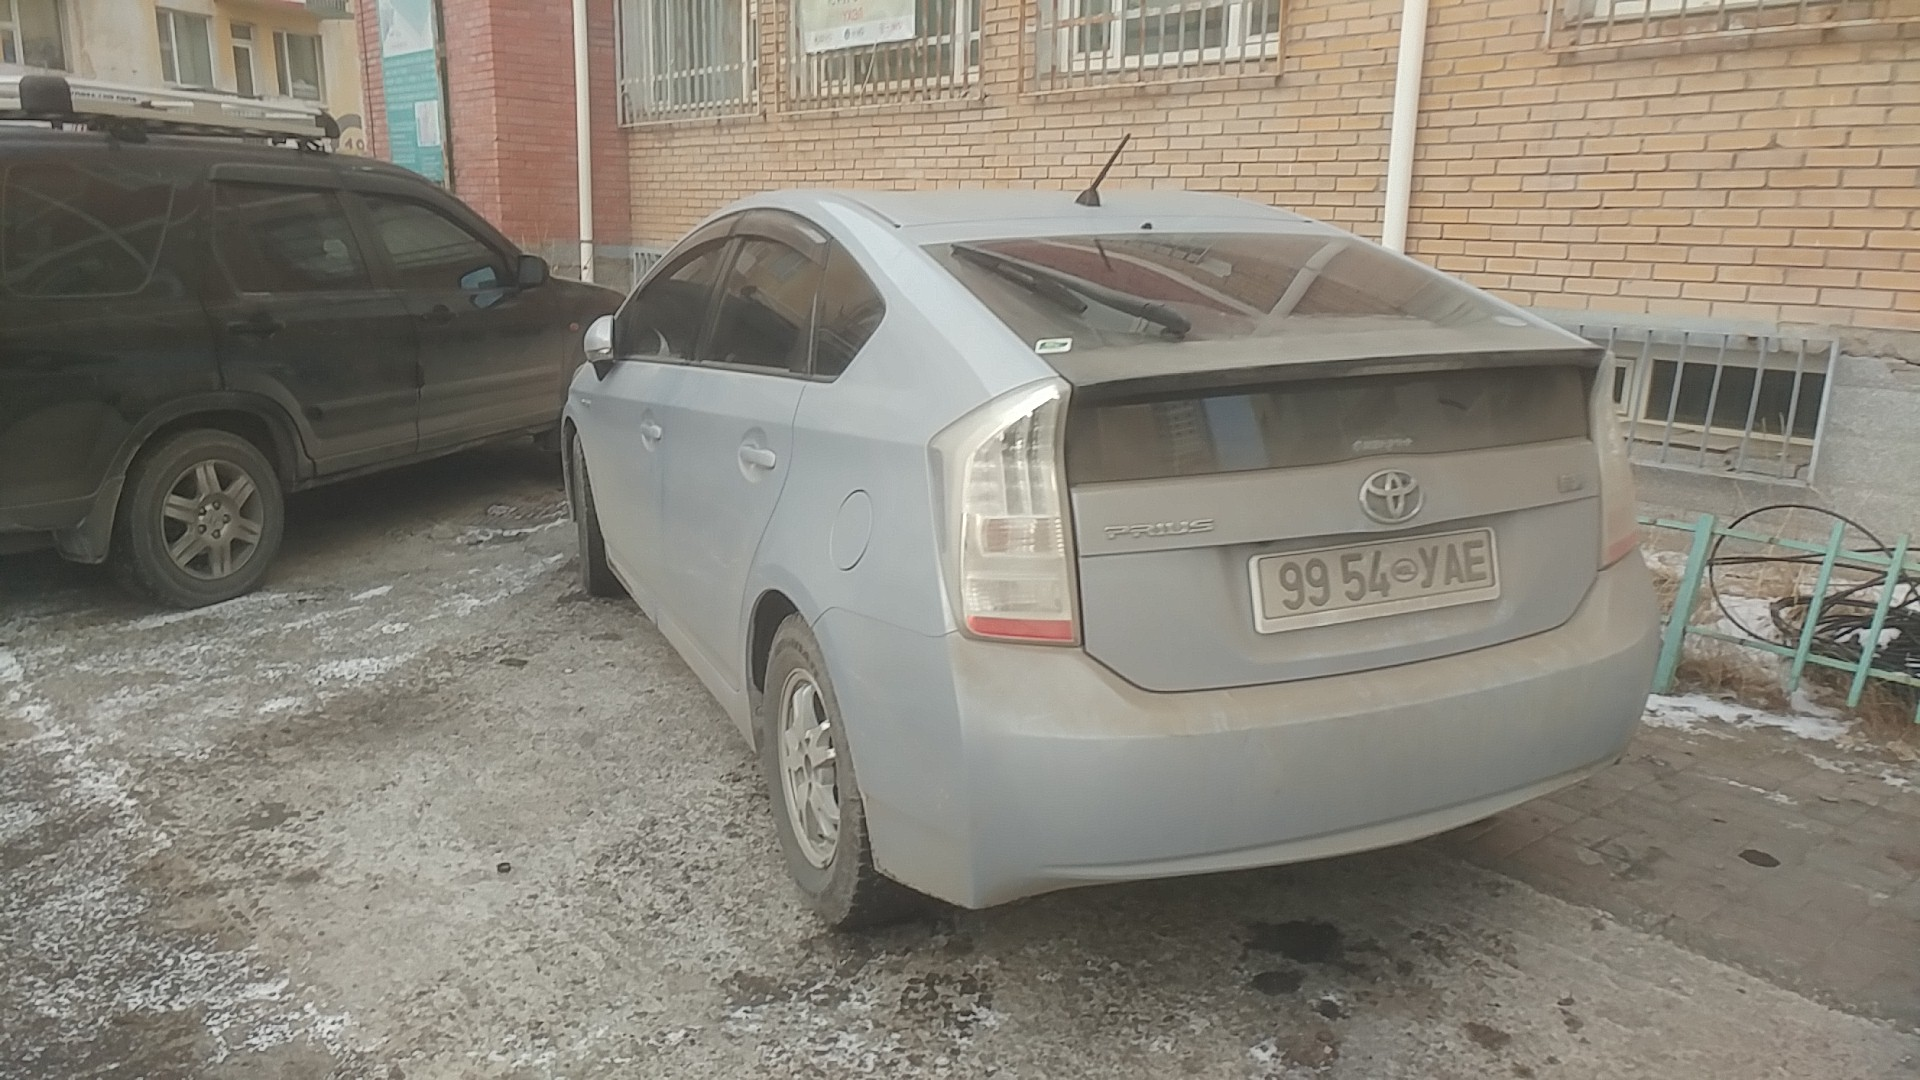4: (1368, 549, 1392, 596)
5: (1339, 552, 1367, 601)
9: (1304, 557, 1334, 607), (1277, 561, 1305, 609)
a: (1442, 541, 1465, 586)
plate: (1249, 524, 1501, 627)
u: (1418, 544, 1442, 589)
ye: (1463, 539, 1489, 584)
